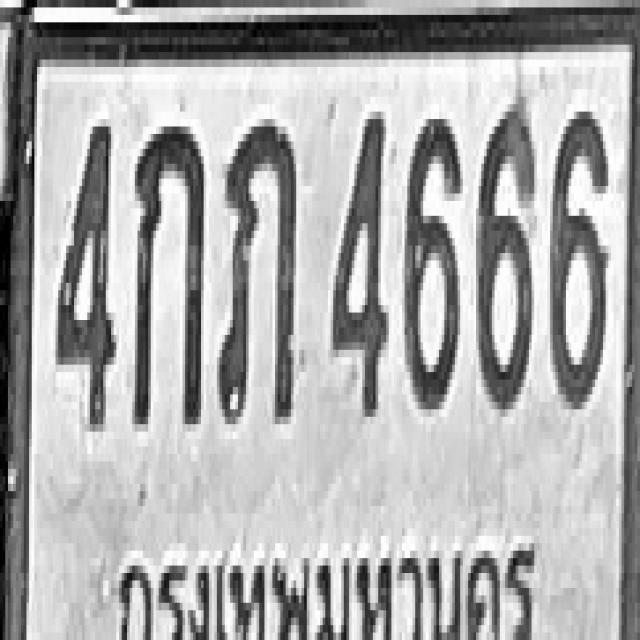10GorGai: (132, 119, 204, 424)
4: (55, 119, 114, 424), (331, 108, 386, 413)
41PhorSamPhao: (217, 116, 296, 420)
6: (476, 97, 534, 409), (549, 108, 607, 405), (405, 112, 460, 409)
